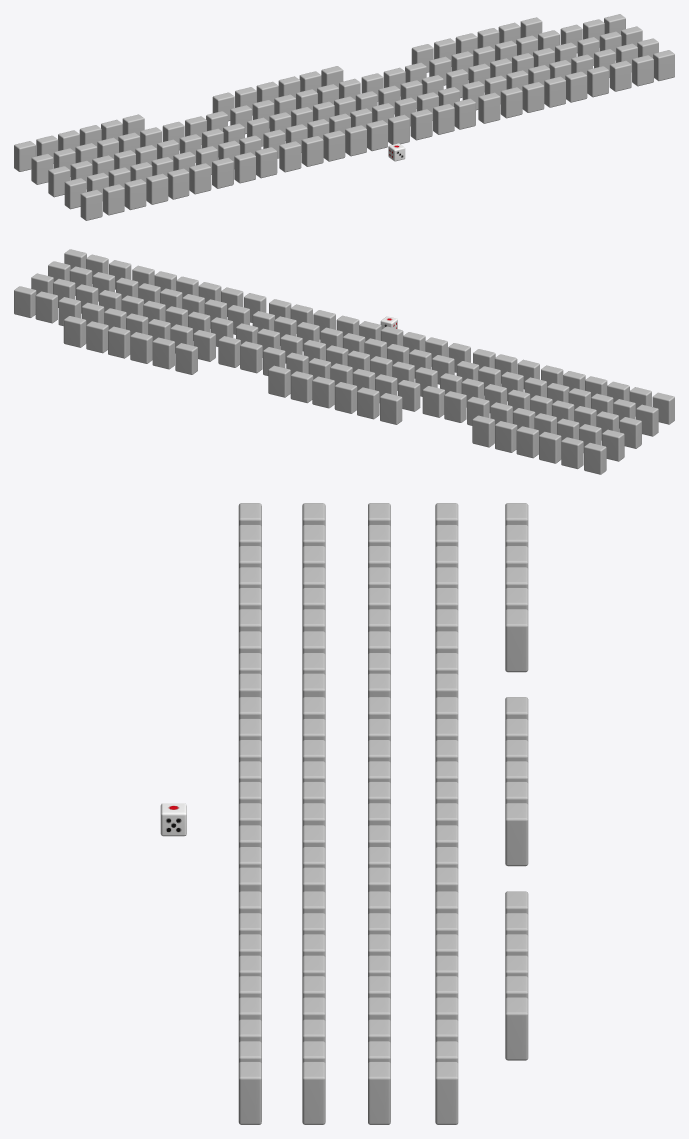
File: Mahjong.fbx
The picture shows the model from 3 angles, top to bottom: view 1: azimuth 30°, elevation 25°; view 2: azimuth 150°, elevation 25°; view 3: azimuth 270°, elevation 25°; orthographic projection. The views are drawn at different scales.
Visible parts, largest first — view 1: yellow_wan7, wan1, wan2, red_wan1, red_wan6, wan3, red_wan3, wan7, yellow_wan1, yellow_wan2, yellow_wan3, red_wan4 (+114 smaller); view 2: yellow_lan, mei, qiu, dong1, red_zhu, red_qiu, red_chun, yellow_xia, zhu, red_ju, red_lan, red_xia (+114 smaller); view 3: yellow_tiao9, yellow_ju, yellow_lan, red_lan, lan, yellow_wan9, yellow_bing9, Dice.
Part boxes in pixels (x1,y1,x2,y2): yellow_wan7: [609, 60, 631, 91]; wan1: [279, 141, 301, 172]; wan2: [301, 135, 323, 166]; red_wan1: [80, 189, 102, 220]; red_wan6: [189, 163, 211, 194]; wan3: [323, 130, 345, 161]; red_wan3: [124, 179, 146, 210]; wan7: [410, 109, 432, 140]; yellow_wan1: [478, 92, 500, 123]; yellow_wan2: [500, 87, 522, 118]; yellow_wan3: [522, 82, 544, 112]; red_wan4: [146, 173, 168, 204]; yellow_lan: [63, 316, 86, 347]; mei: [290, 371, 313, 403]; qiu: [334, 382, 357, 413]; dong1: [312, 376, 334, 408]; red_zhu: [444, 391, 466, 422]; red_qiu: [539, 431, 561, 463]; red_chun: [584, 442, 606, 474]; yellow_xia: [152, 337, 174, 369]; zhu: [240, 341, 262, 373]; red_ju: [422, 386, 444, 417]; red_lan: [472, 415, 494, 447]; red_xia: [561, 437, 583, 469]; yellow_tiao9: [302, 1061, 325, 1124]; yellow_ju: [435, 1061, 458, 1124]; yellow_lan: [505, 997, 528, 1060]; red_lan: [505, 609, 528, 672]; lan: [505, 803, 528, 866]; yellow_wan9: [238, 1061, 261, 1124]; yellow_bing9: [368, 1061, 390, 1124]; Dice: [160, 803, 186, 836].
Size of the model in its own units: 150 by 5.87 by 40.59.
